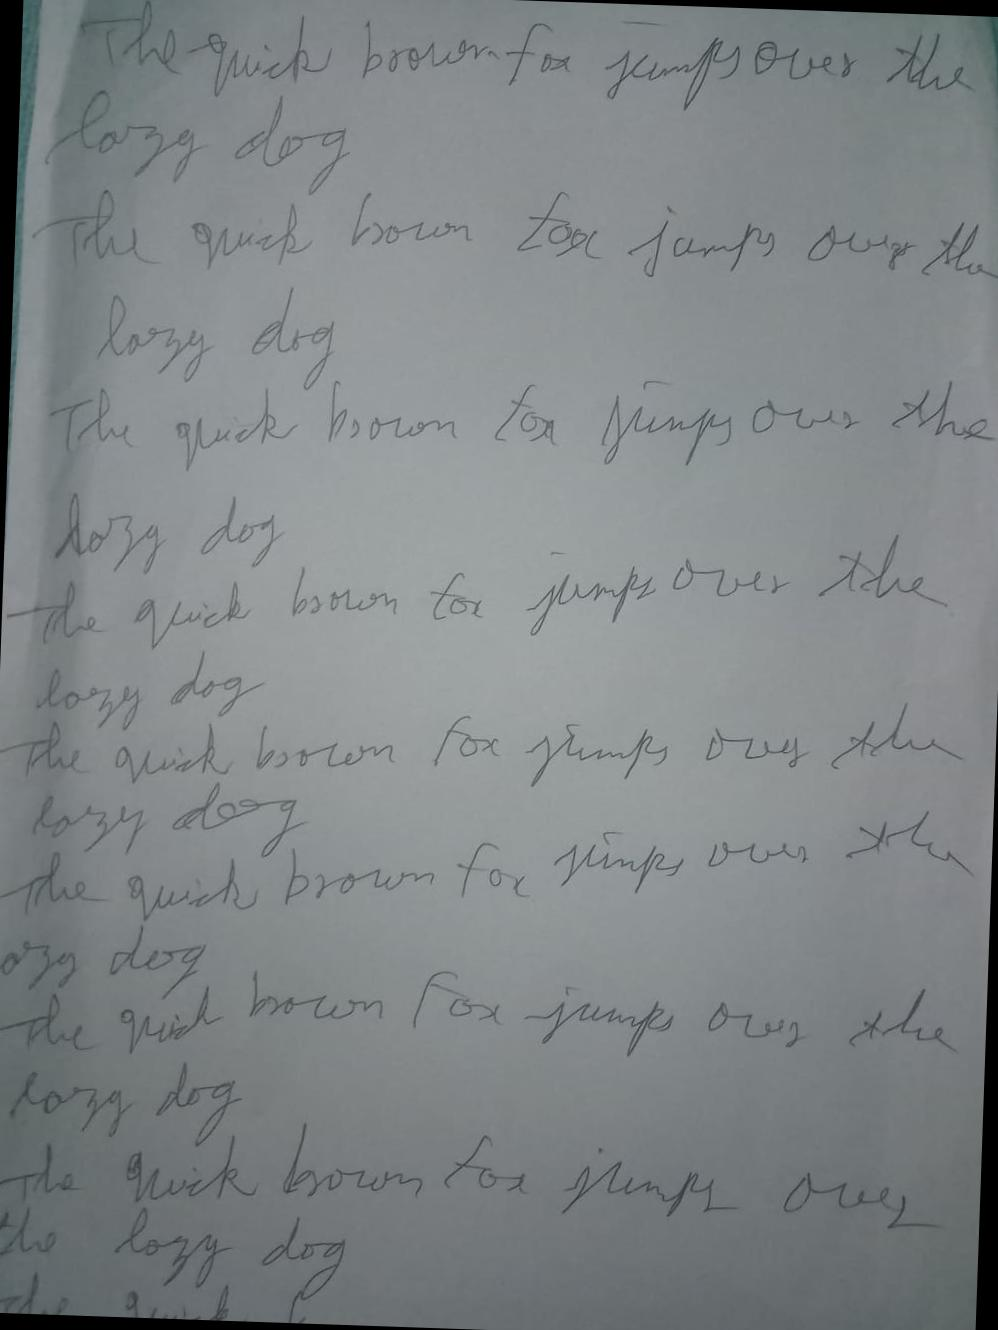text: (0, 493, 962, 688), (0, 775, 984, 964), (45, 340, 998, 511), (0, 664, 974, 822), (0, 946, 970, 1096), (26, 167, 998, 315), (0, 1102, 946, 1249), (70, 0, 985, 134), (39, 82, 361, 206), (0, 1200, 357, 1305), (92, 276, 343, 398), (26, 769, 317, 873), (46, 480, 292, 590), (26, 639, 276, 744), (4, 1049, 251, 1154), (0, 914, 216, 1006), (0, 1270, 317, 1324)
